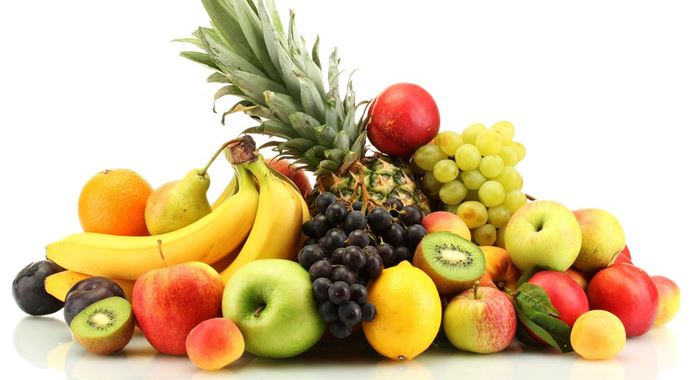elma: (235, 261, 323, 358), (135, 267, 220, 350)
